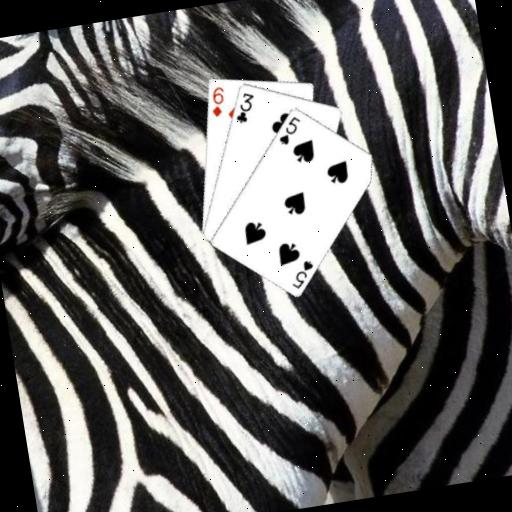3C: (229, 88, 259, 125)
5S: (285, 256, 318, 291), (272, 112, 304, 147)
6D: (205, 82, 229, 119)
